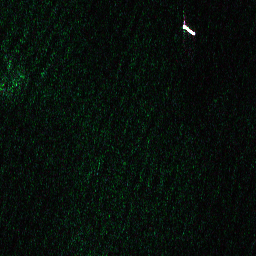ship: (180, 22, 198, 38)
